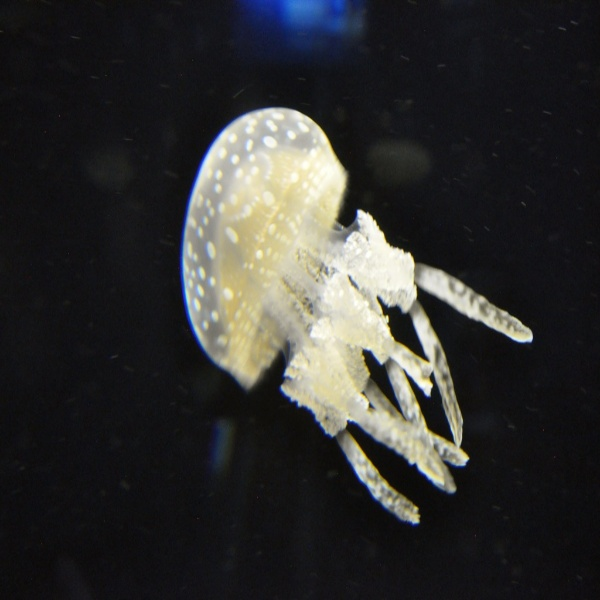Jellyfish: (178, 99, 532, 524)
